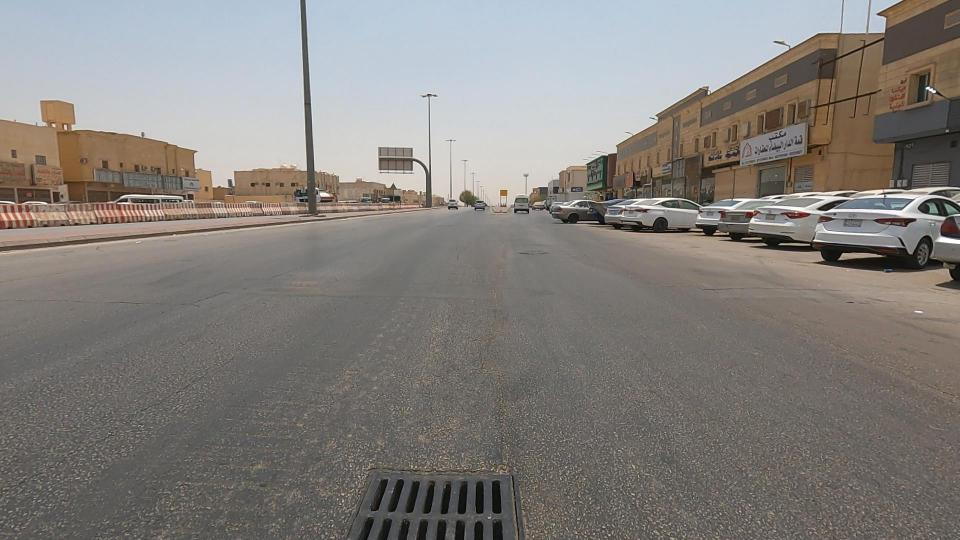POTHOLES: (41, 176, 178, 253), (218, 163, 321, 243), (152, 179, 256, 239), (0, 181, 91, 244)
